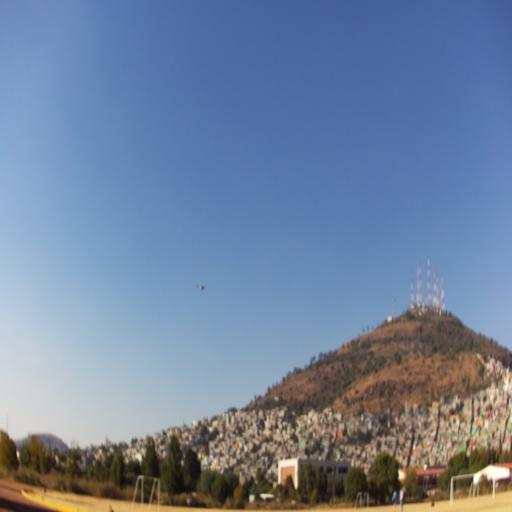drones: (196, 282, 208, 294)
